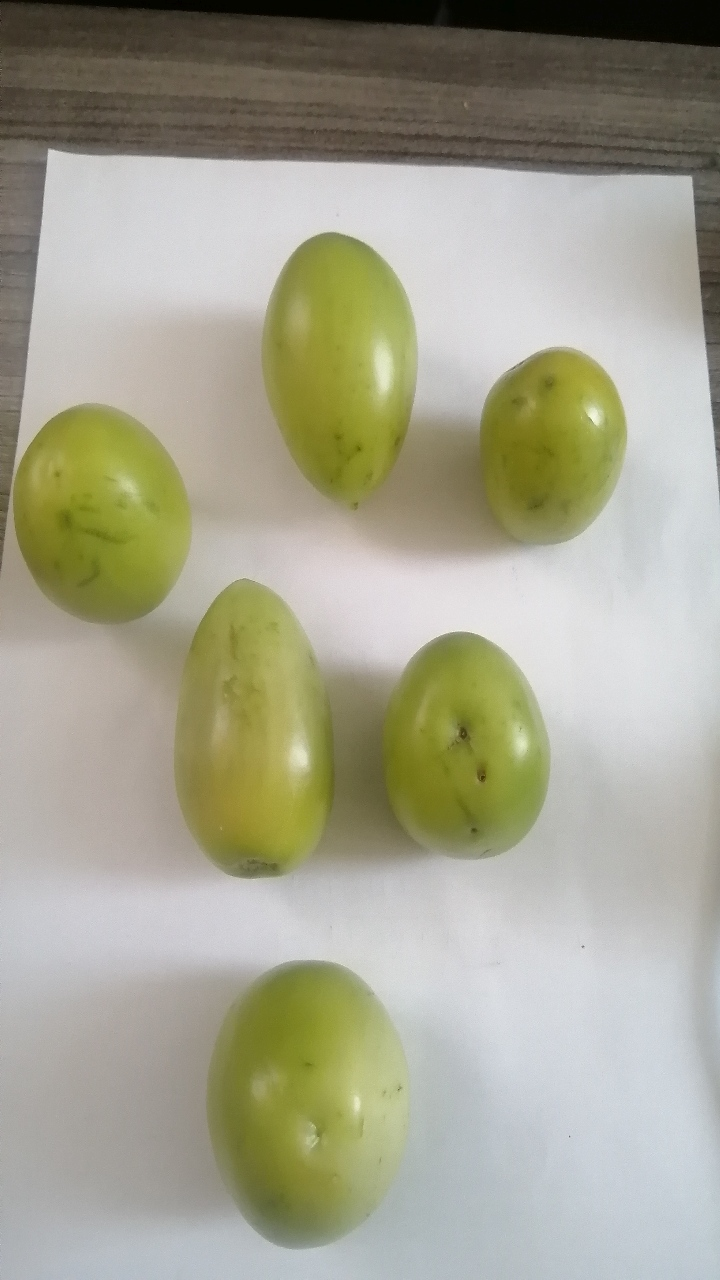tomateVerde: (191, 928, 426, 1262), (144, 566, 375, 899), (229, 212, 455, 531), (6, 397, 206, 652), (454, 309, 638, 580), (380, 620, 564, 874)
